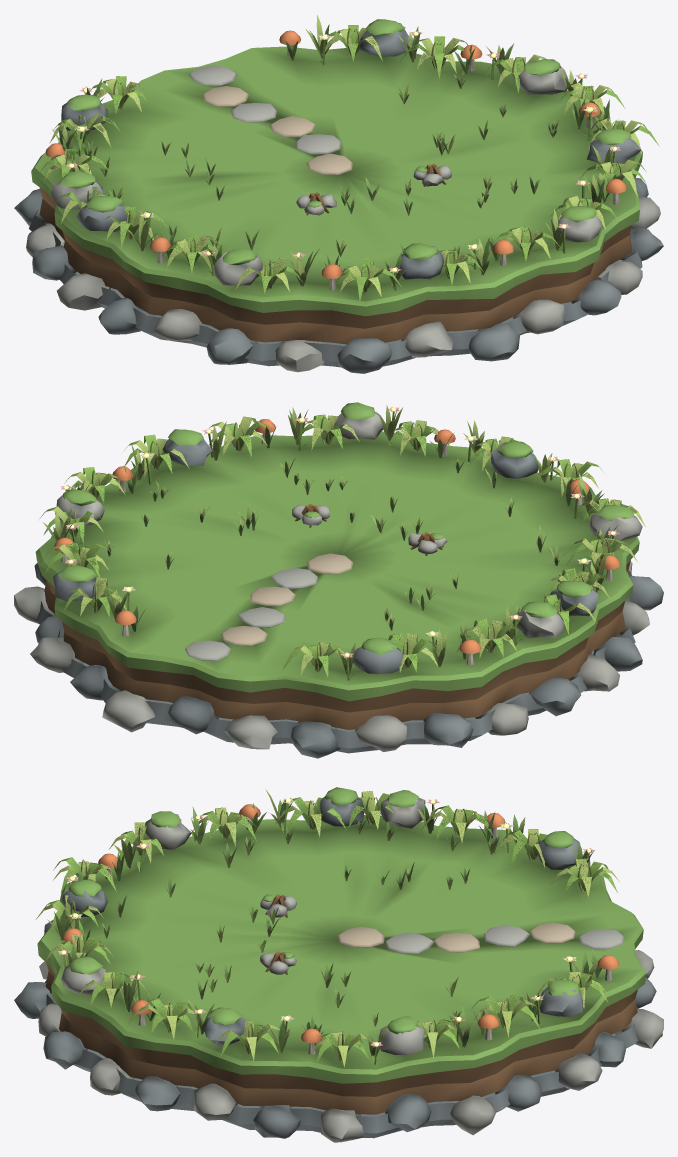
The model's file is EDV2_CampGround.fbx.
3 renders of one model, top to bottom at view 1: azimuth 30°, elevation 25°; view 2: azimuth 150°, elevation 25°; view 3: azimuth 270°, elevation 25°, orthographic.
Parts seen in each view (by area): view 1: Moss.009, Growth.001, Slate.001, Soil.001, Rocks, Path.002; view 2: Moss.009, Growth.001, Slate.001, Soil.001, Rocks, Path.002; view 3: Moss.009, Growth.001, Slate.001, Soil.001, Rocks, Path.002.
Boxes of the visible parts, x1=… form: Moss.009: x1=31, y1=19, x2=642, y2=316; Growth.001: x1=39, y1=15, x2=659, y2=302; Slate.001: x1=14, y1=178, x2=663, y2=373; Soil.001: x1=39, y1=187, x2=631, y2=344; Rocks: x1=50, y1=22, x2=641, y2=285; Path.002: x1=188, y1=65, x2=352, y2=174; Moss.009: x1=35, y1=402, x2=639, y2=701; Growth.001: x1=39, y1=405, x2=645, y2=680; Slate.001: x1=14, y1=562, x2=663, y2=758; Soil.001: x1=44, y1=560, x2=630, y2=729; Rocks: x1=53, y1=407, x2=642, y2=673; Path.002: x1=185, y1=553, x2=353, y2=660; Moss.009: x1=37, y1=787, x2=646, y2=1083; Growth.001: x1=36, y1=790, x2=619, y2=1067; Slate.001: x1=14, y1=919, x2=663, y2=1142; Soil.001: x1=45, y1=963, x2=637, y2=1114; Rocks: x1=60, y1=797, x2=582, y2=1054; Path.002: x1=337, y1=922, x2=624, y2=954.
Size of the model in its own units: 5.09 by 1.04 by 5.01.
